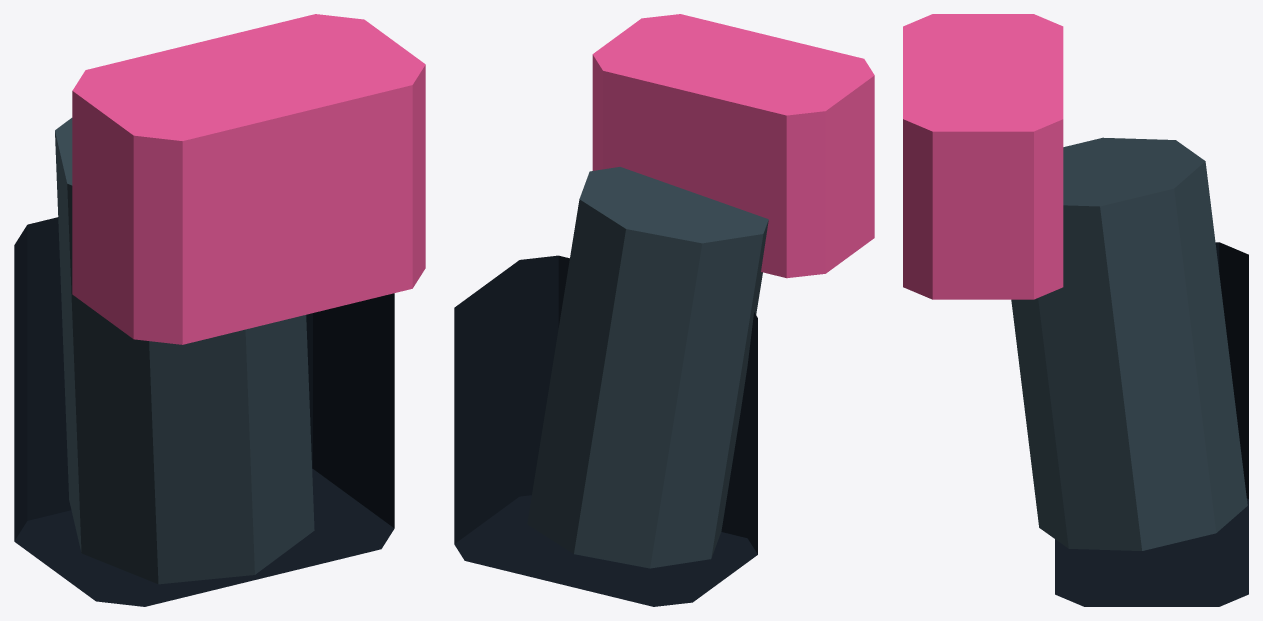
The model's file is enemy_striker_lod_shin_l.obj.
The picture shows the model from 3 angles, left to right: view 1: azimuth 30°, elevation 25°; view 2: azimuth 150°, elevation 25°; view 3: azimuth 270°, elevation 25°; orthographic projection. The views are drawn at different scales.
Bounding box in the file's own units: 0.3988 × 0.59 × 0.41.
